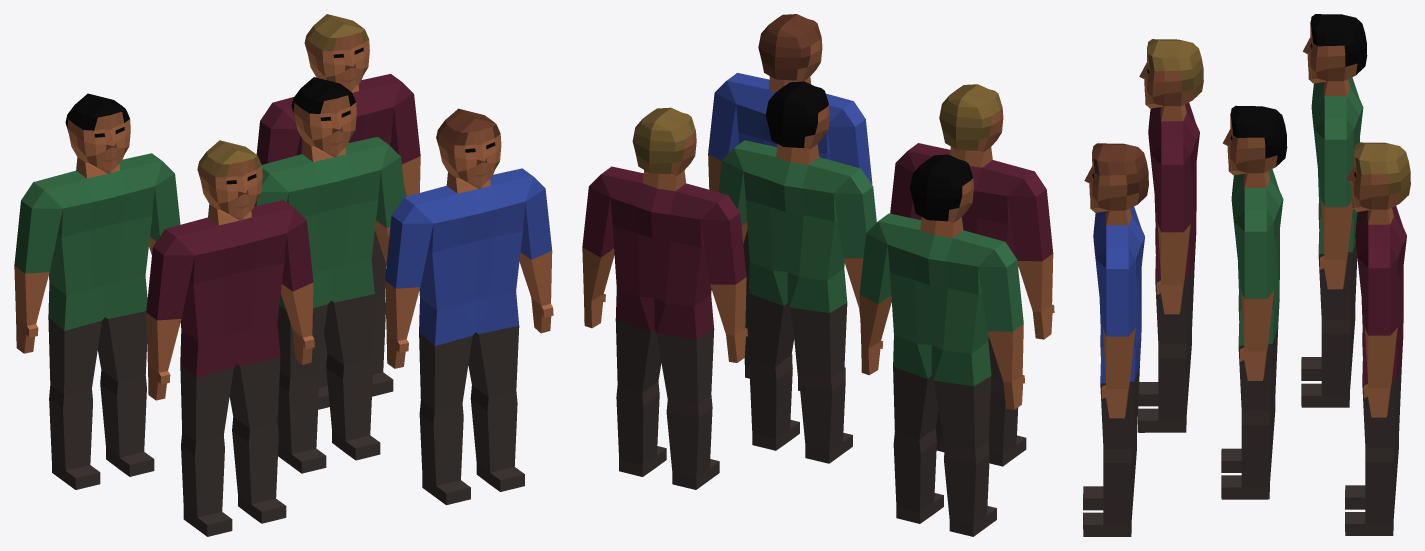
File: people_new.glb
3 views of the same model, side by side, from view 1: azimuth 30°, elevation 25°; view 2: azimuth 150°, elevation 25°; view 3: azimuth 270°, elevation 25° (orthographic). The views are drawn at different scales.
Parts seen in each view (by area): view 1: Cube.003, Cube.002, Cube.013, Cube.001, Cube.021; view 2: Cube.021, Cube.013, Cube.001, Cube.003, Cube.002; view 3: Cube.001, Cube.002, Cube.003, Cube.021, Cube.013.
Part boxes in pixels (<box>): Cube.003: <box>146,140,314,536</box>; Cube.002: <box>385,108,553,505</box>; Cube.013: <box>14,93,180,489</box>; Cube.001: <box>254,77,405,473</box>; Cube.021: <box>256,14,420,409</box>; Cube.021: <box>582,107,747,489</box>; Cube.013: <box>859,154,1025,536</box>; Cube.001: <box>718,81,876,463</box>; Cube.003: <box>890,84,1054,466</box>; Cube.002: <box>708,14,872,390</box>; Cube.001: <box>1221,105,1287,499</box>; Cube.002: <box>1083,143,1148,536</box>; Cube.003: <box>1138,39,1203,432</box>; Cube.021: <box>1345,142,1410,535</box>; Cube.013: <box>1301,14,1367,407</box>.
Bounding box in the file's own units: 0.291 × 0.2454 × 0.1954.
